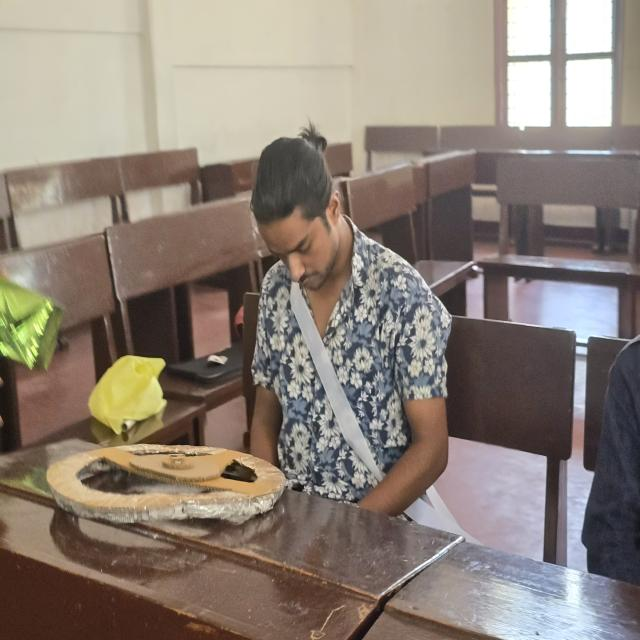seatbelt: (269, 298, 439, 492)
